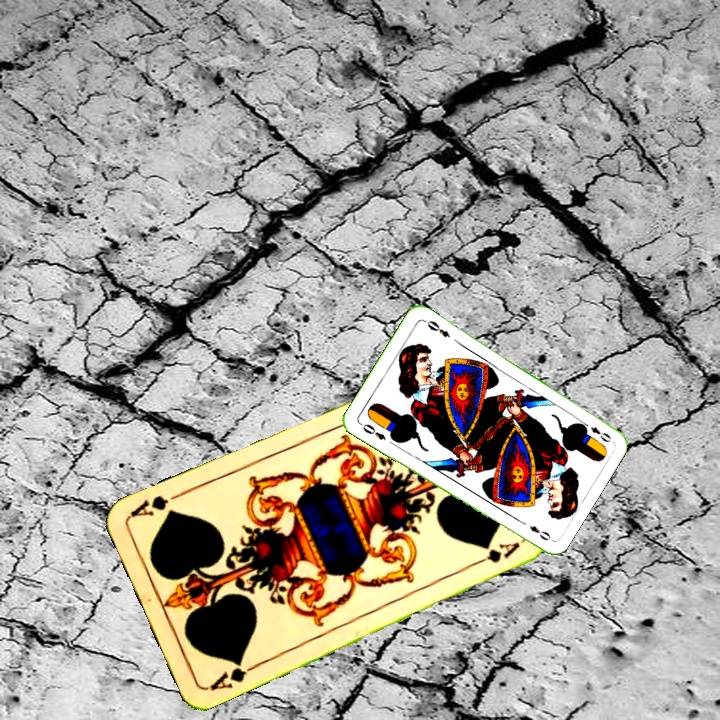EO: (356, 419, 389, 443), (586, 423, 614, 445)
GA: (204, 655, 260, 694)
